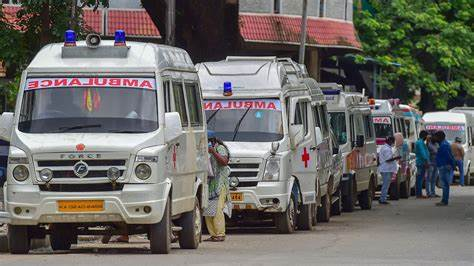ambulance: (8, 20, 207, 247), (195, 57, 339, 238)
